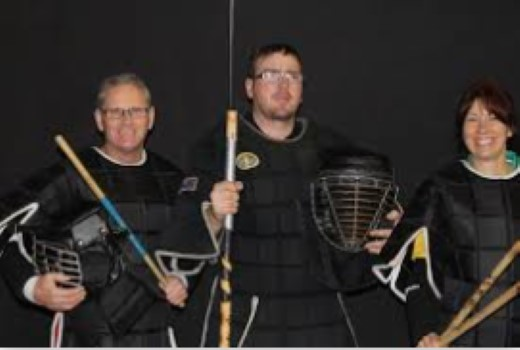baston_e: (58, 144, 165, 276), (438, 241, 514, 329), (219, 119, 241, 346), (469, 284, 518, 341)
baston_v: (50, 130, 71, 151), (223, 104, 243, 124)
